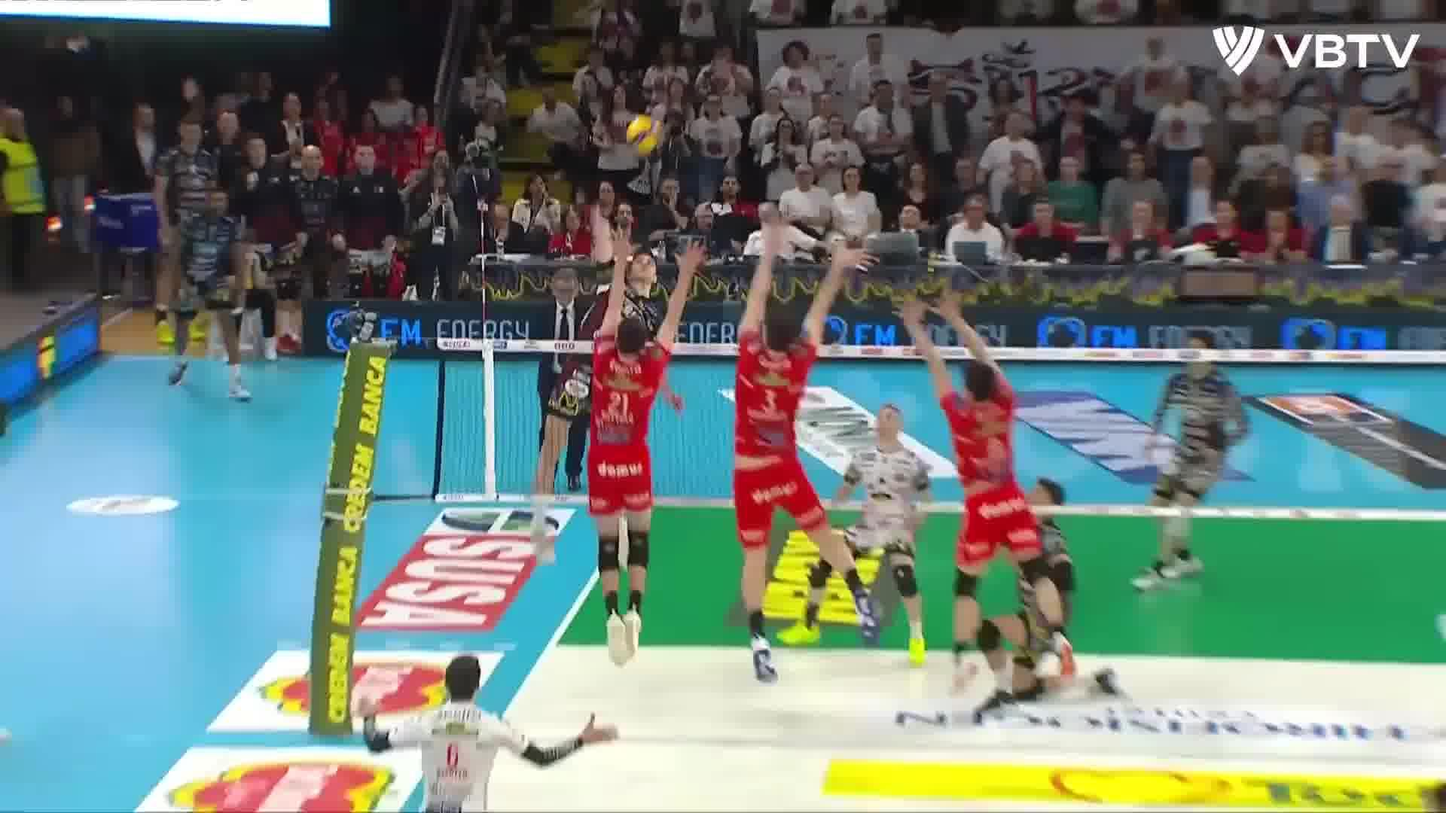balls: (627, 115, 662, 154)
